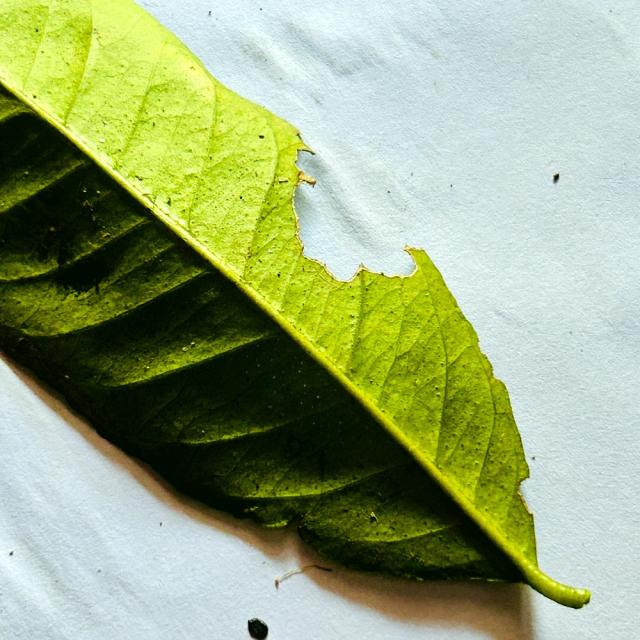Deficiency Leaf: (294, 150, 413, 281), (255, 509, 316, 539)
Lemon: (0, 0, 589, 607)
